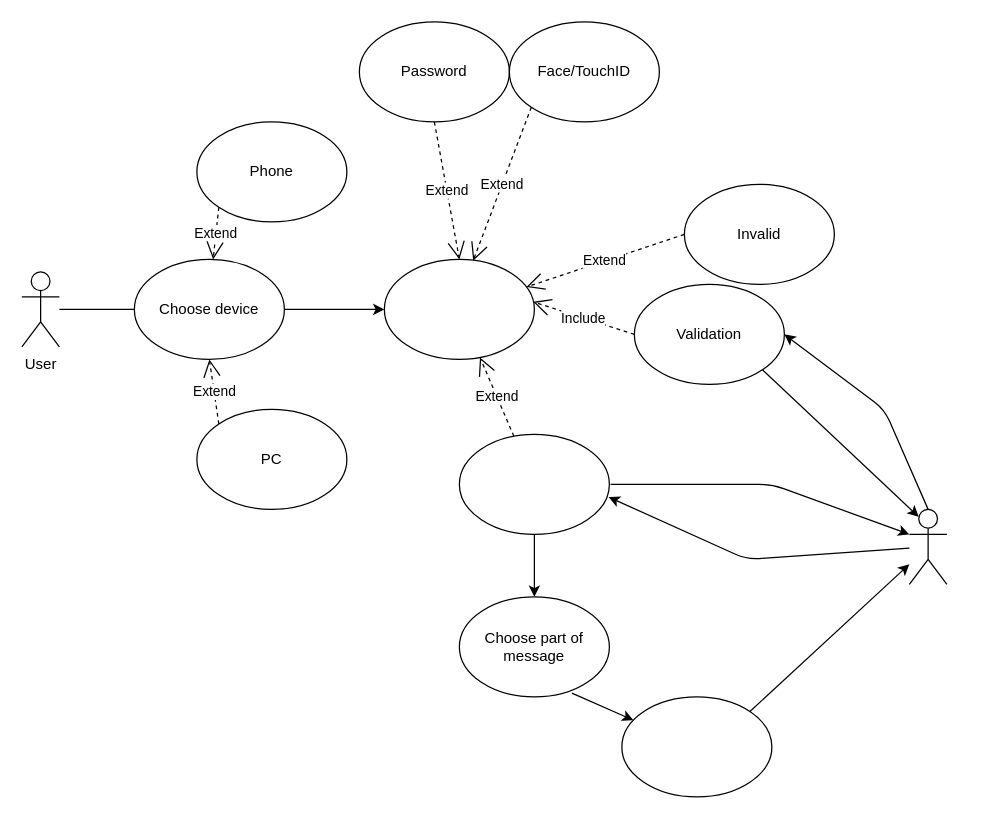
Some shapes in this 986 by 819 pixel diagram are drawn without their labels. Here are the shapes that lost their labels. From the top down, the centre of each, then its label:
the point at 458,308: Log In
the point at 533,483: Search message
the point at 927,546: Messenger
the point at 696,746: Reply
